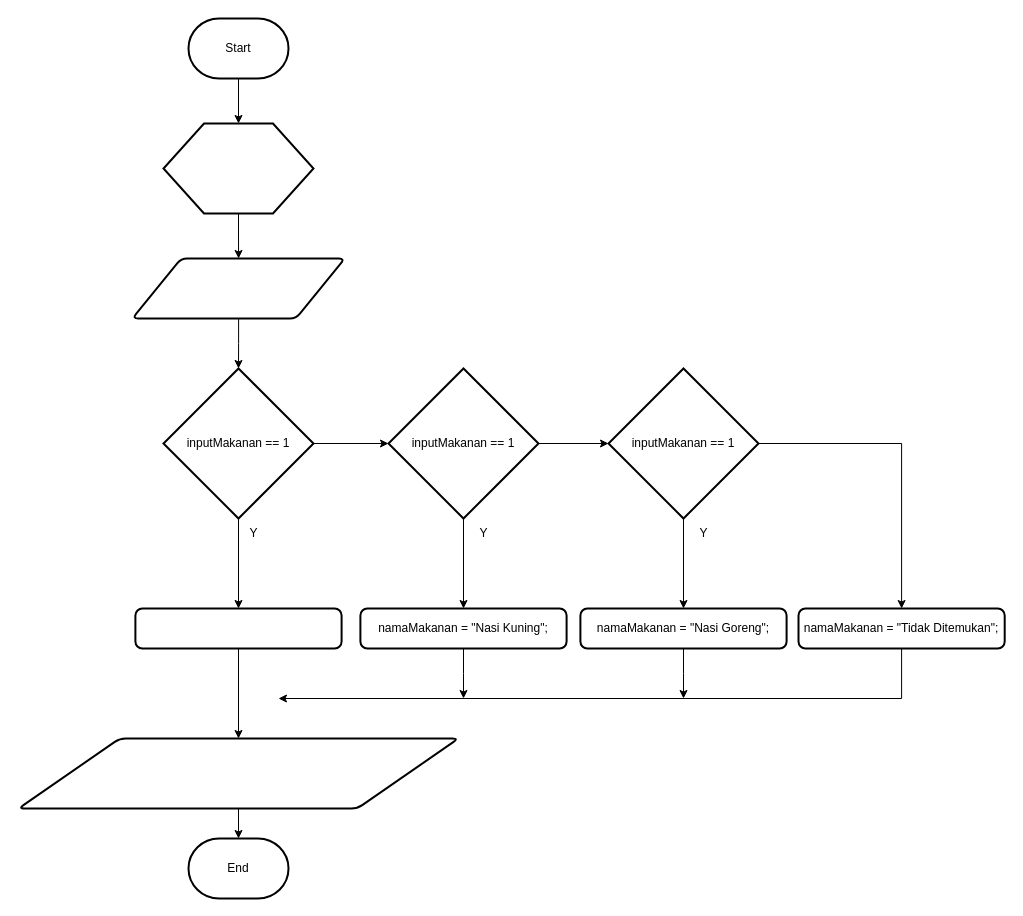
Image size: 1023x916. Some labels were removed from this diagram. Here are the shapes that lost their labels. From the top down, the centre of each, then its label:
(238,168): String namaMakanan;
(238,288): int inputMakanan = 2;
(238,628): namaMakanan = "Nasi Kebuli";
(238,773): print("Makanan yang dipilih adalah " + namaMakanan);
